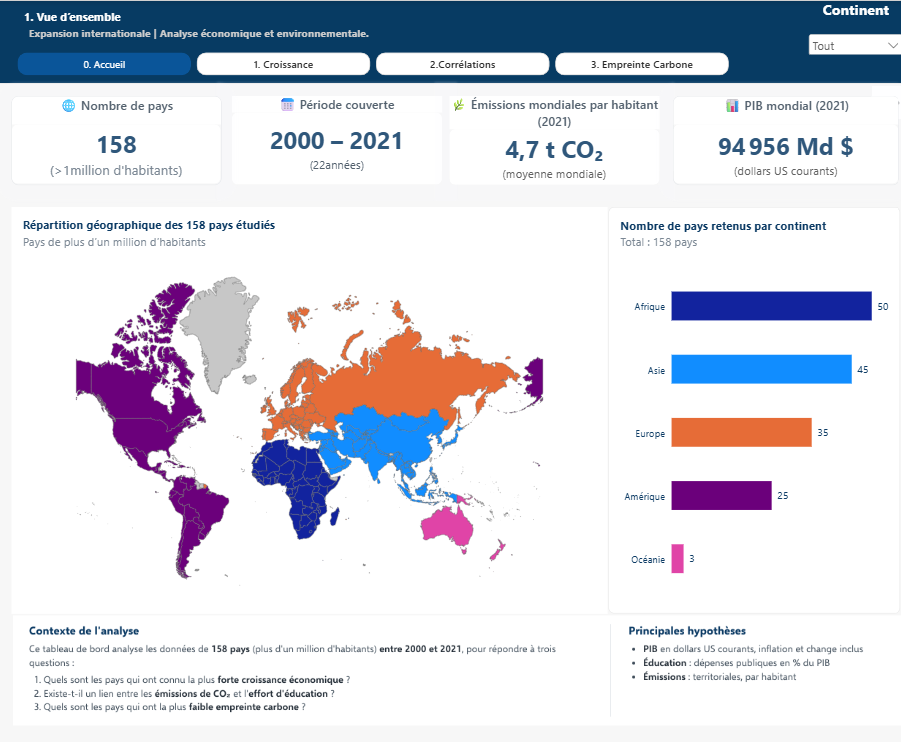

The page's visual inventory and layout, read from the dashboard file:
{"tool":"powerbi","page":{"name":"0. Accueil","canvas":[1280,1250],"ordinal":0},"visuals":[{"type":"shape","box":[0,0,1280.4,118],"z":0},{"type":"textbox","box":[24,12,500,40],"z":1000},{"type":"textbox","box":[23.3,36.7,600,22],"z":2000},{"type":"group","id":"g1","title":"Groupe 2","box":[1133.6,-0.5,143.3,76.7],"z":3000},{"type":"cardVisual","title":"📅 Période couverte","fields":{"Data":["fait_indicateurs_pays_annee.Periode couverte"]},"box":[328.3,135,295,125],"z":4000},{"type":"cardVisual","title":"🌿 Émissions mondiales par habitant (2021)","fields":{"Data":["fait_indicateurs_pays_annee.Emissions monde texte"]},"box":[635,135,295,125],"z":5000},{"type":"cardVisual","title":"📊 PIB mondial (2021)","fields":{"Data":["fait_indicateurs_pays_annee.PIB mondial texte"]},"box":[950,135,318.3,125],"z":6000},{"type":"clusteredBarChart","title":"Nombre de pays retenus par continent","fields":{"Category":["dim_pays.continent"],"Y":["fait_indicateurs_pays_annee.Nombre de pays"]},"box":[858,292,411.4,571.4],"z":7000},{"type":"shapeMap","title":"Répartition géographique des 158 pays étudiés","fields":{"Category":["dim_pays.code_iso"],"Series":["dim_pays.continent"]},"box":[20,292,838,572],"z":8000},{"type":"pageNavigator","box":[28,73,1000,32],"z":9000},{"type":"cardVisual","title":"🌐 Nombre de pays","fields":{"Data":["Count(dim_pays.code_iso)"]},"box":[20,136,295,125],"z":10000},{"type":"image","box":[22.5,888,1247.5,340],"z":11000},{"type":"slicer","title":"Continent","fields":{"Values":["dim_pays.continent"]},"box":[1133.6,-0.5,143.3,76.7],"z":11002,"group":"g1"}]}

Visuals, with their boxes on the page's 1280x1250 design canvas (x1, y1, x2, y2). These are canvas units, not pixel positions in the 901x742 screenshot, which may show the page scaled, cropped or inside an application window:
shape: select_region(0, 0, 1280, 118)
textbox: select_region(24, 12, 524, 52)
textbox: select_region(23, 37, 623, 59)
"Groupe 2" group: select_region(1134, 0, 1277, 76)
"📅 Période couverte" cardVisual: select_region(328, 135, 623, 260)
"🌿 Émissions mondiales par habitant (2021)" cardVisual: select_region(635, 135, 930, 260)
"📊 PIB mondial (2021)" cardVisual: select_region(950, 135, 1268, 260)
"Nombre de pays retenus par continent" clusteredBarChart: select_region(858, 292, 1269, 863)
"Répartition géographique des 158 pays étudiés" shapeMap: select_region(20, 292, 858, 864)
pageNavigator: select_region(28, 73, 1028, 105)
"🌐 Nombre de pays" cardVisual: select_region(20, 136, 315, 261)
image: select_region(22, 888, 1270, 1228)
"Continent" slicer: select_region(1134, 0, 1277, 76)
